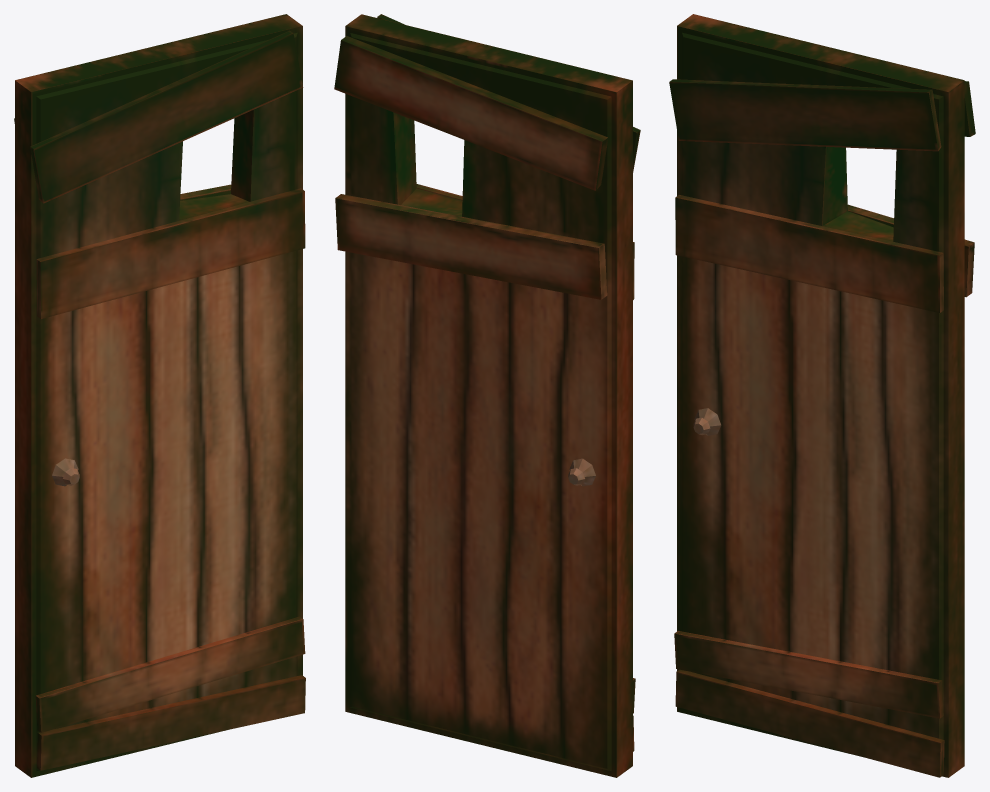
Rendered from porta con foro.glb.
3 renders of one model, left to right at view 1: azimuth 30°, elevation 25°; view 2: azimuth 150°, elevation 25°; view 3: azimuth 330°, elevation 25°, orthographic.
Parts seen in each view (by area): view 1: ASSI; view 2: ASSI; view 3: ASSI.
Boxes of the visible parts, bbox=[...] form: ASSI: bbox=[14, 14, 305, 777]; ASSI: bbox=[334, 14, 640, 777]; ASSI: bbox=[669, 14, 975, 777].
Bounding box in the file's own units: 0.93 × 2.19 × 0.2198.
2 materials, 2 textured.
